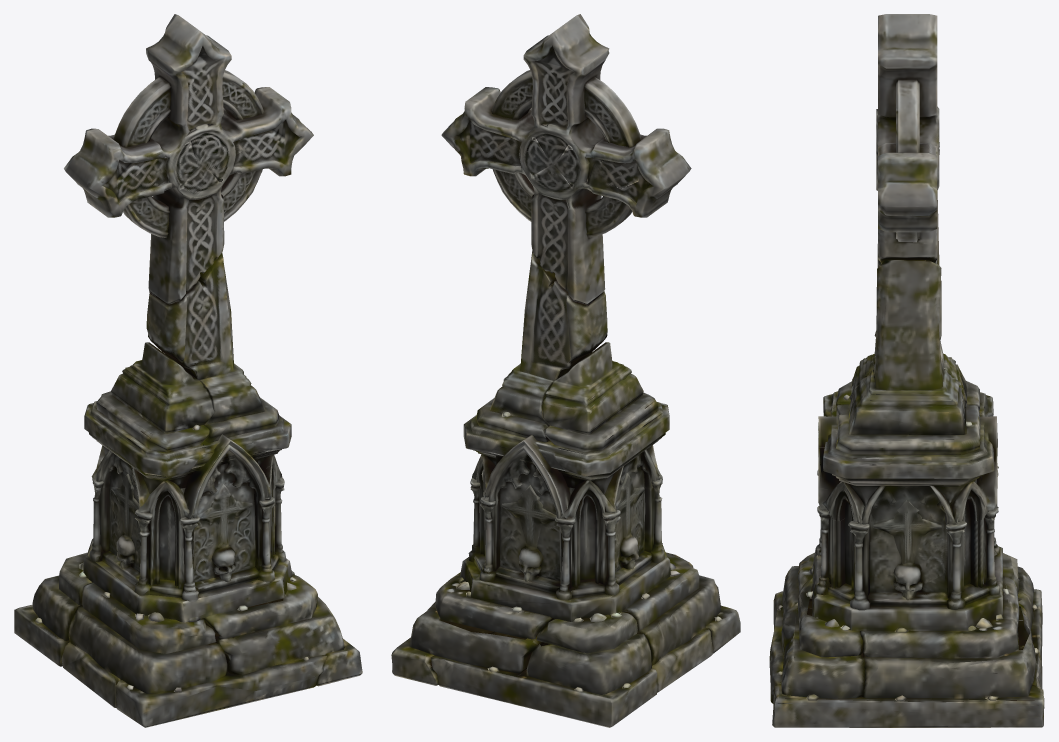
File: graveyard_3.glb
3 views of the same model, side by side, from view 1: azimuth 30°, elevation 25°; view 2: azimuth 150°, elevation 25°; view 3: azimuth 270°, elevation 25° (orthographic). The views are drawn at different scales.
Parts seen in each view (by area): view 1: geometry_0; view 2: geometry_0; view 3: geometry_0.
Boxes of the visible parts, bbox=[...] form: geometry_0: bbox=[14, 14, 362, 727]; geometry_0: bbox=[391, 14, 740, 727]; geometry_0: bbox=[769, 14, 1044, 727].
Size of the model in its own units: 0.355 by 0.9521 by 0.3599.
Materials: 1 (1 with a texture image).
